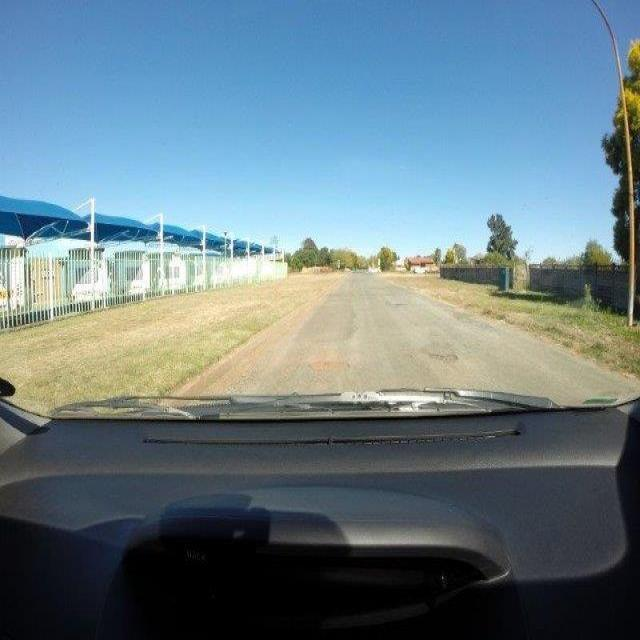lubang: (417, 343, 461, 364), (303, 356, 349, 371)
